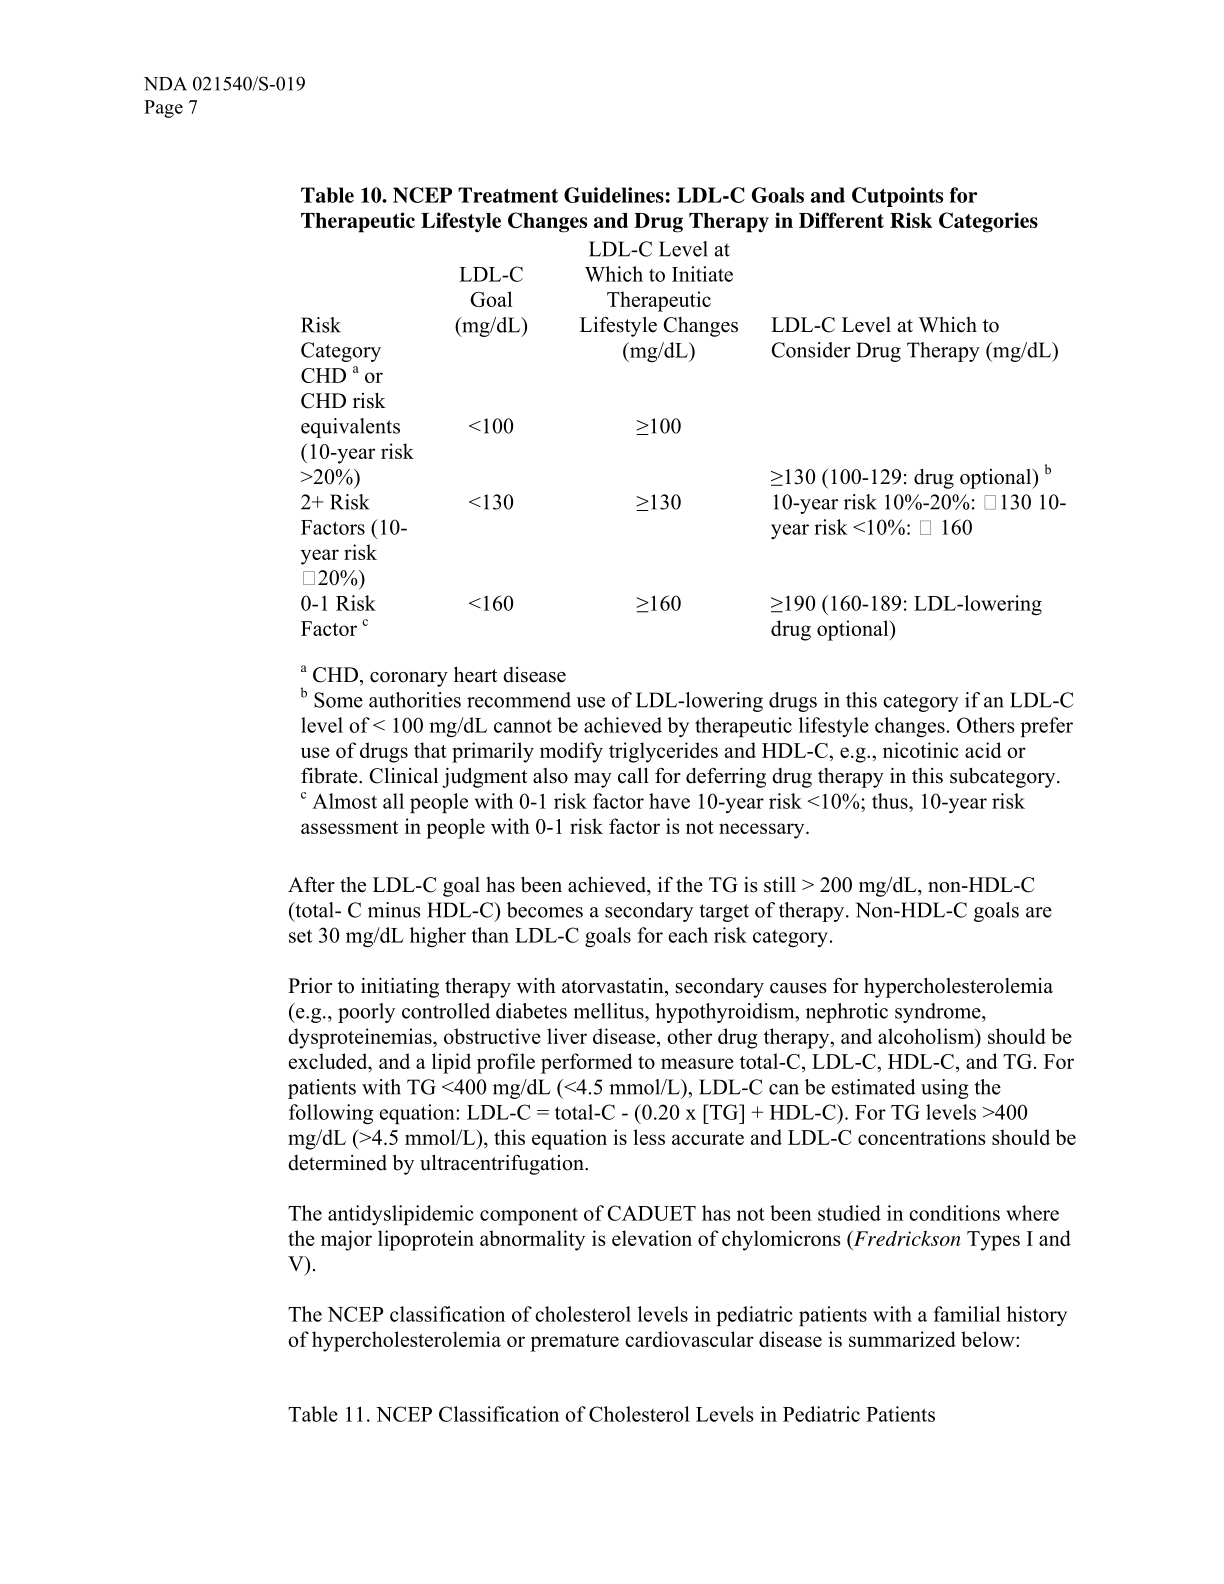nolines: (298, 237, 1067, 639)
